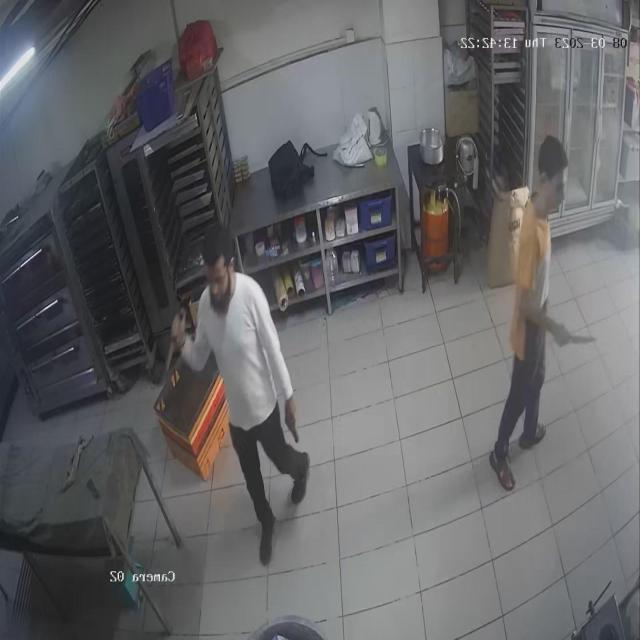Knife: (147, 321, 201, 368), (554, 321, 611, 352)
